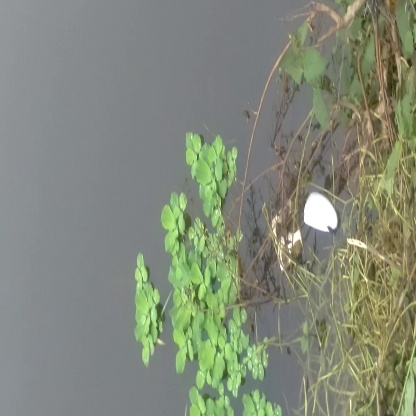milk-box: (274, 202, 304, 272)
